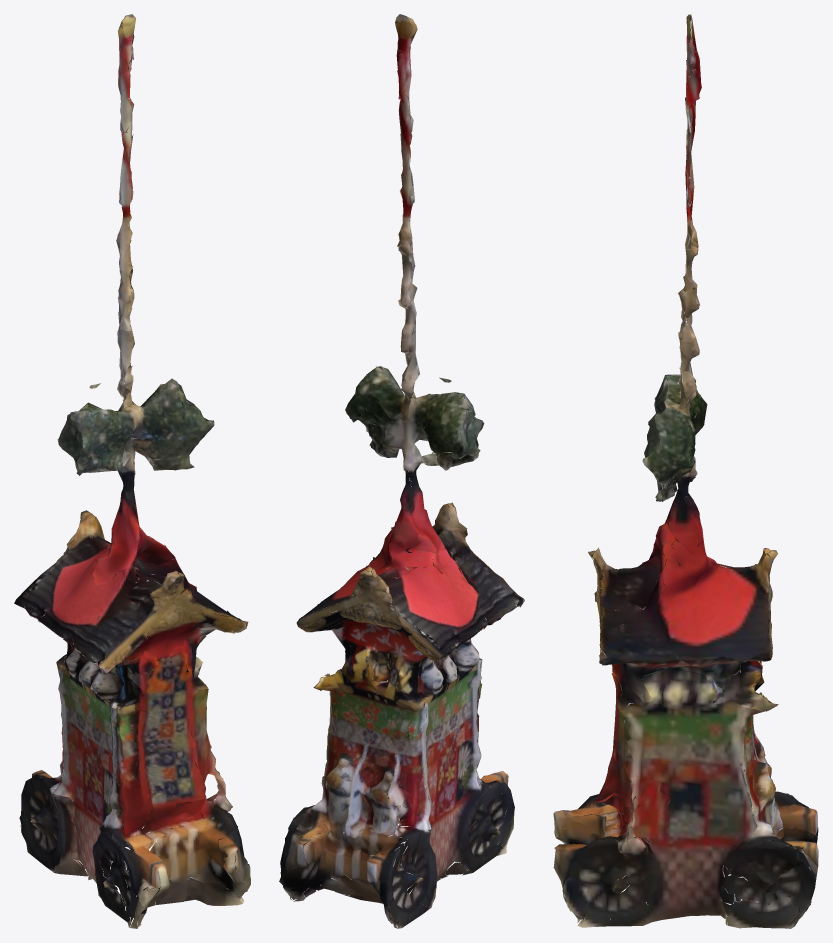
The model's file is 函谷鉾.glb.
3 renders of one model, left to right at view 1: azimuth 30°, elevation 25°; view 2: azimuth 150°, elevation 25°; view 3: azimuth 270°, elevation 25°, orthographic. The views are drawn at different scales.
Parts seen in each view (by area): view 1: mesh; view 2: mesh; view 3: mesh.
Boxes of the visible parts, box(x1,y1,x2,y2) form: mesh: box(14, 14, 250, 928); mesh: box(279, 14, 524, 928); mesh: box(553, 14, 818, 928).
Bounding box in the file's own units: 2.88 × 15.47 × 4.21.
Materials: 1 (1 with a texture image).
